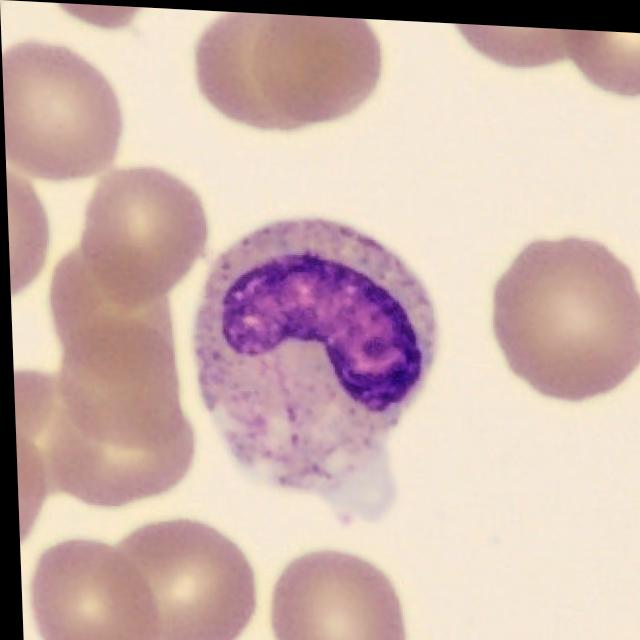Bastonete: (190, 214, 436, 516)
